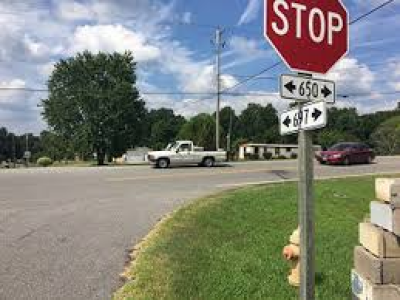stop: (266, 1, 347, 61)
